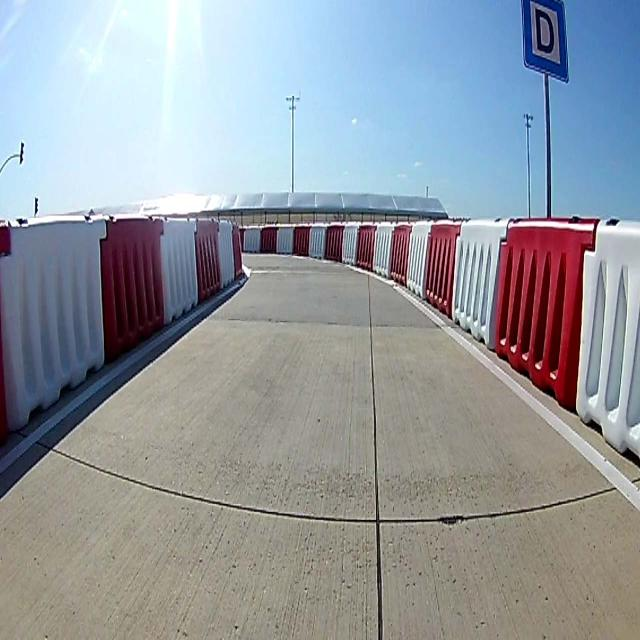durak: (523, 1, 569, 80)
